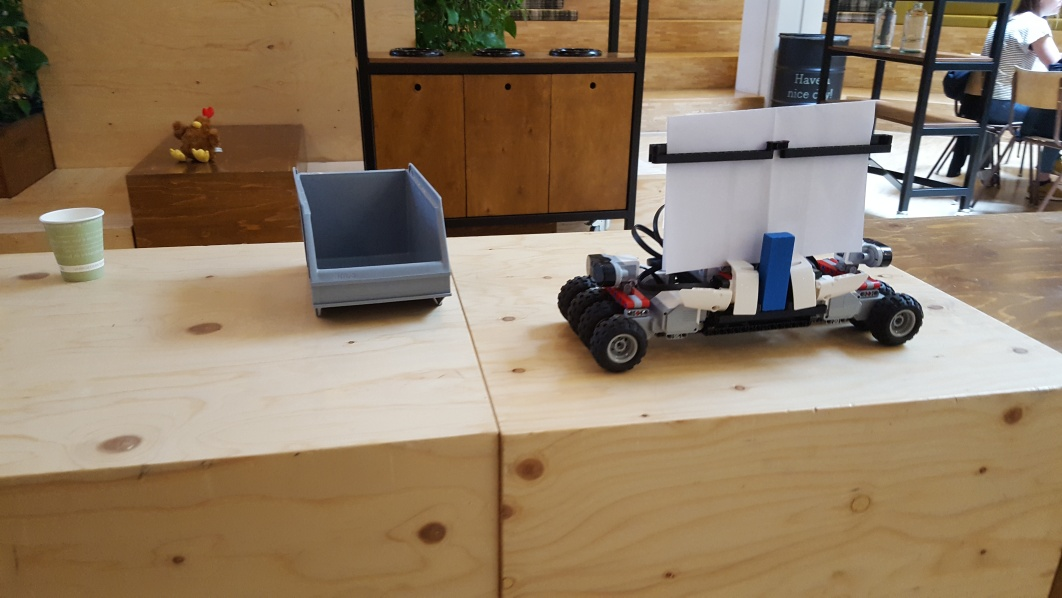beam: (759, 232, 796, 315)
chicken: (170, 105, 224, 163)
cup: (37, 206, 108, 288)
tray: (291, 161, 454, 324)
